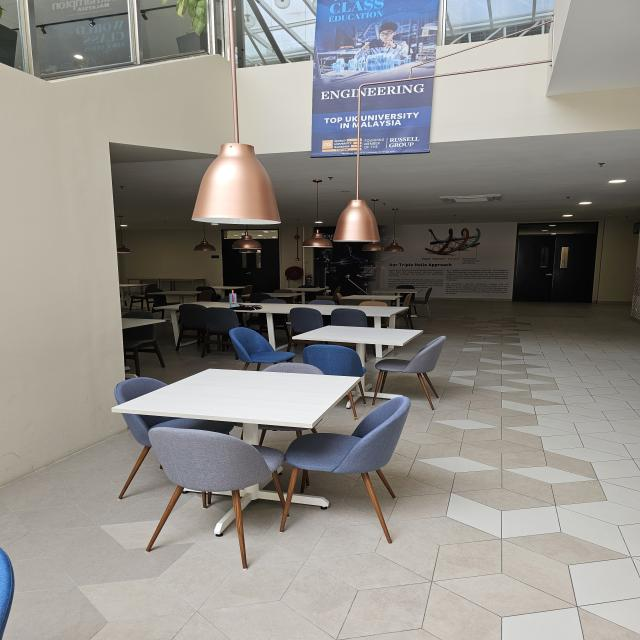footpath: (447, 324, 639, 639)
obstacle: (124, 377, 416, 564), (228, 312, 444, 379)
